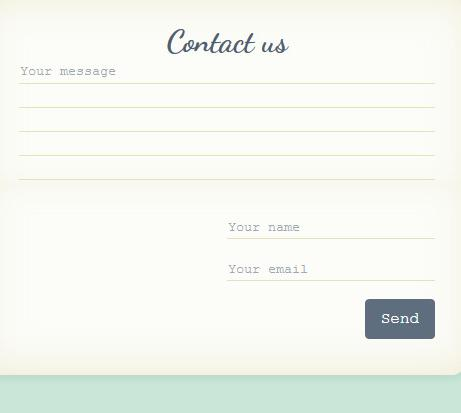button: (363, 298, 436, 338)
field_line: (17, 60, 435, 87), (222, 216, 436, 242), (225, 260, 438, 283)
